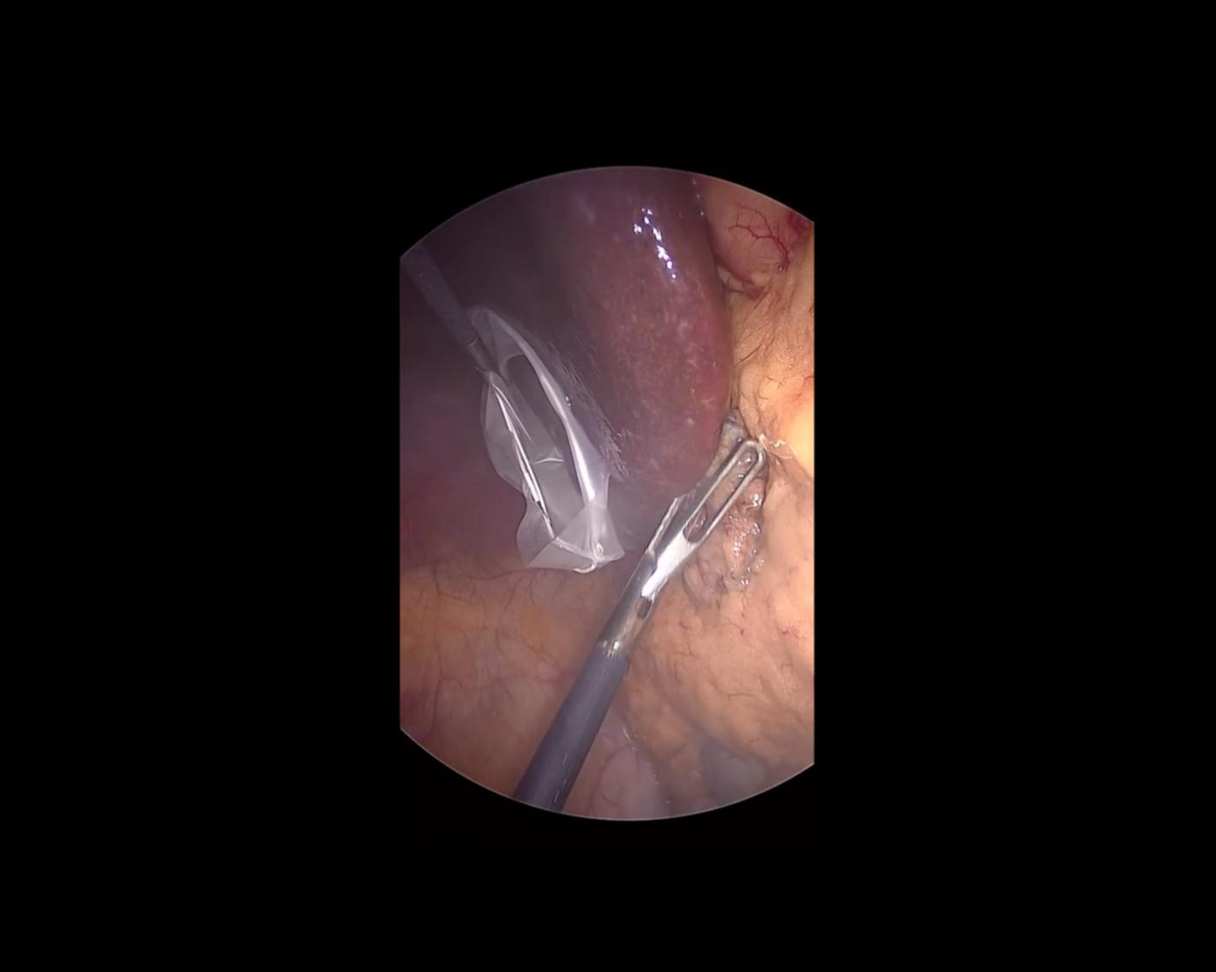Bag: (456, 287, 628, 589)
Forceps: (503, 421, 770, 822), (397, 238, 538, 451)
Gallbladder: (672, 403, 776, 613)
Liver: (407, 89, 856, 563)
